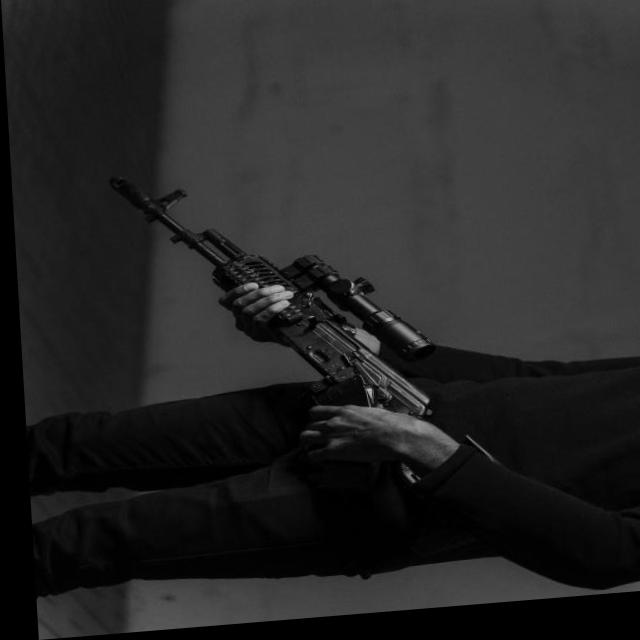handgun: (100, 154, 432, 438)
